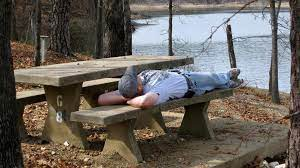obstacle: (6, 50, 234, 165)
